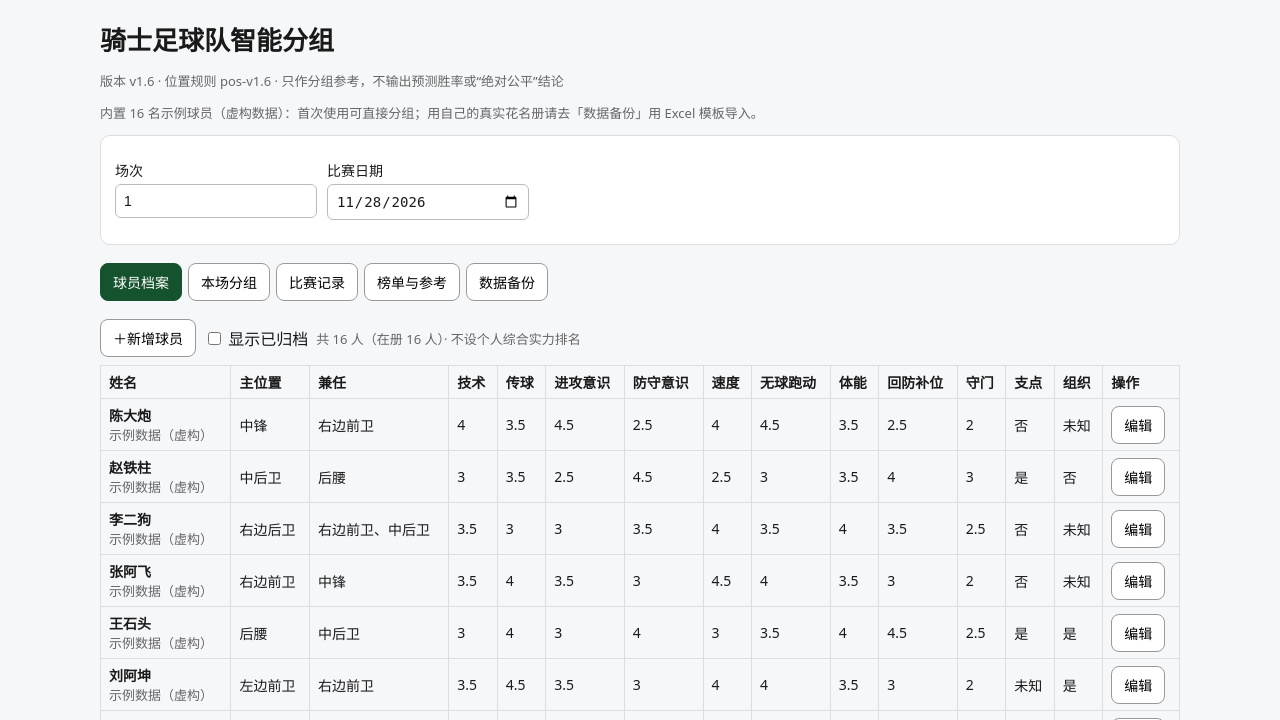
App smoke (v1.6) › switching recommended schemes keeps each scheme display order stable
Later steps or results of the test are not shown.
Click the button "本场分组".
click(229, 282)  # box top-left (188, 263), bottom-right (270, 301)
(page scrolled)
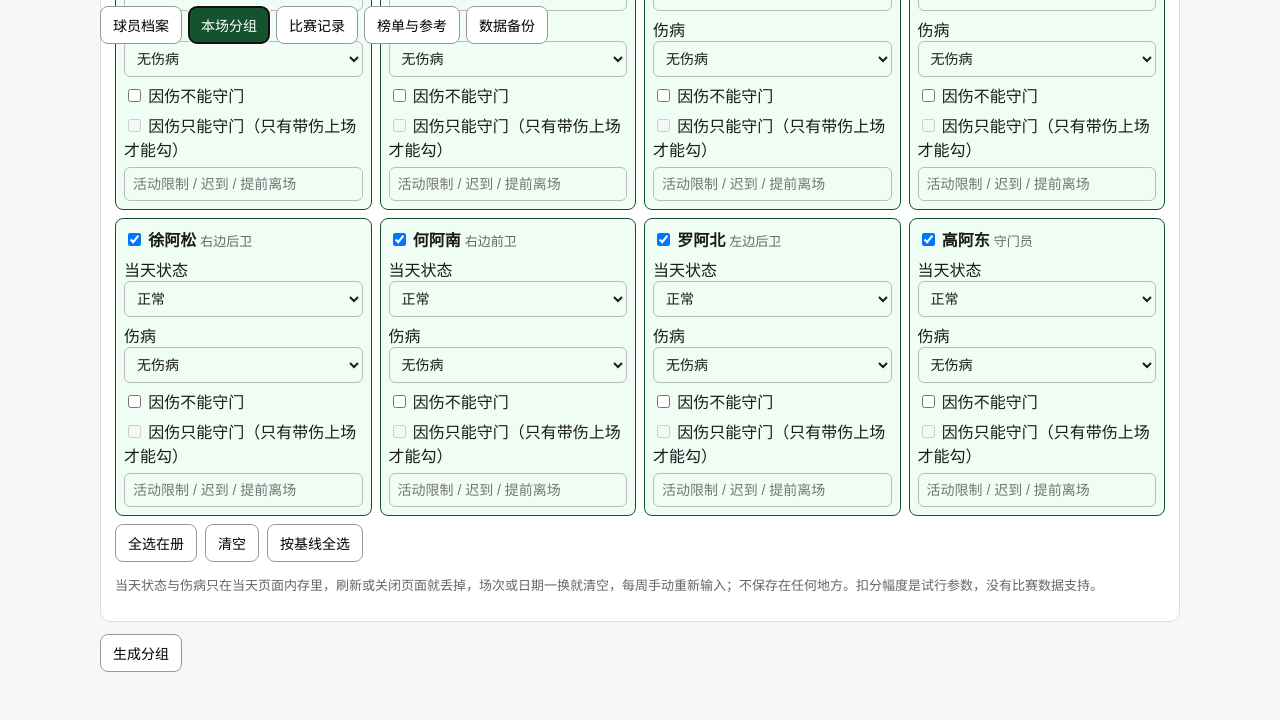
Click the button "生成分组".
click(141, 653)  # box top-left (100, 634), bottom-right (182, 672)
(page scrolled)
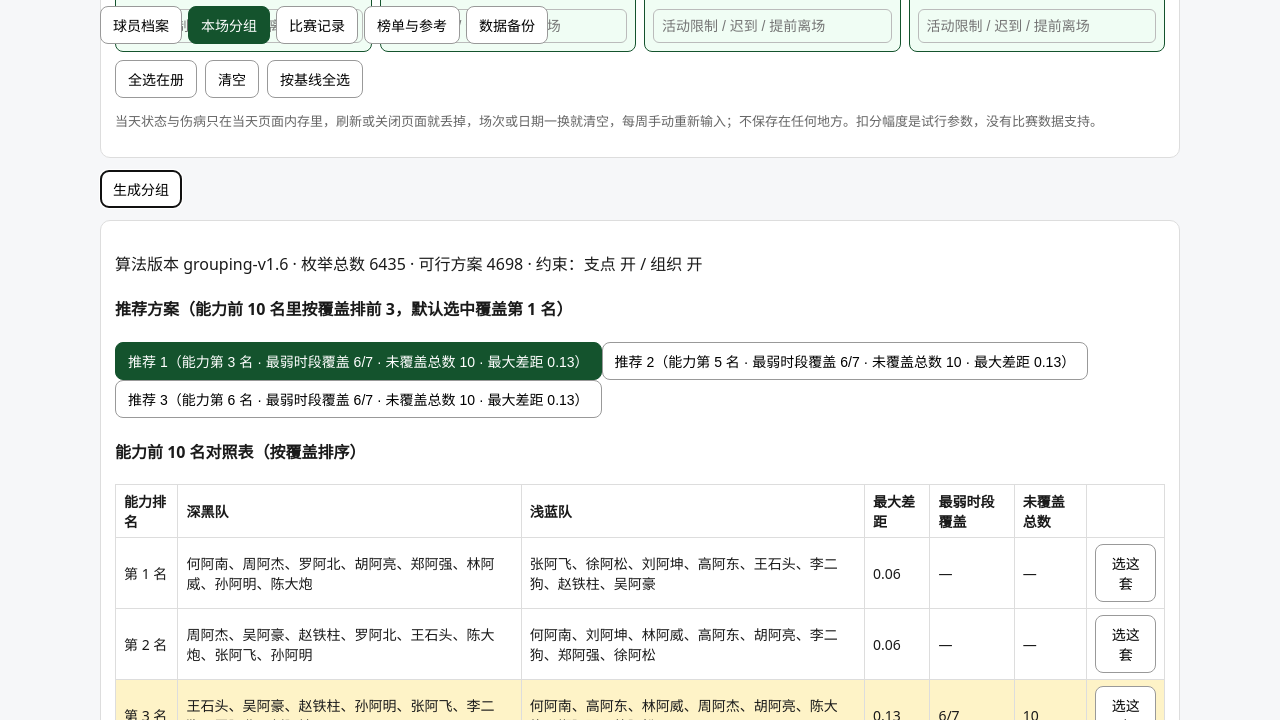
Expected: the heading "推荐方案（能力前 10 名里按覆盖排前 3，默认选中覆盖第 1 名）" is shown, top-left (115, 298), bottom-right (572, 320)
